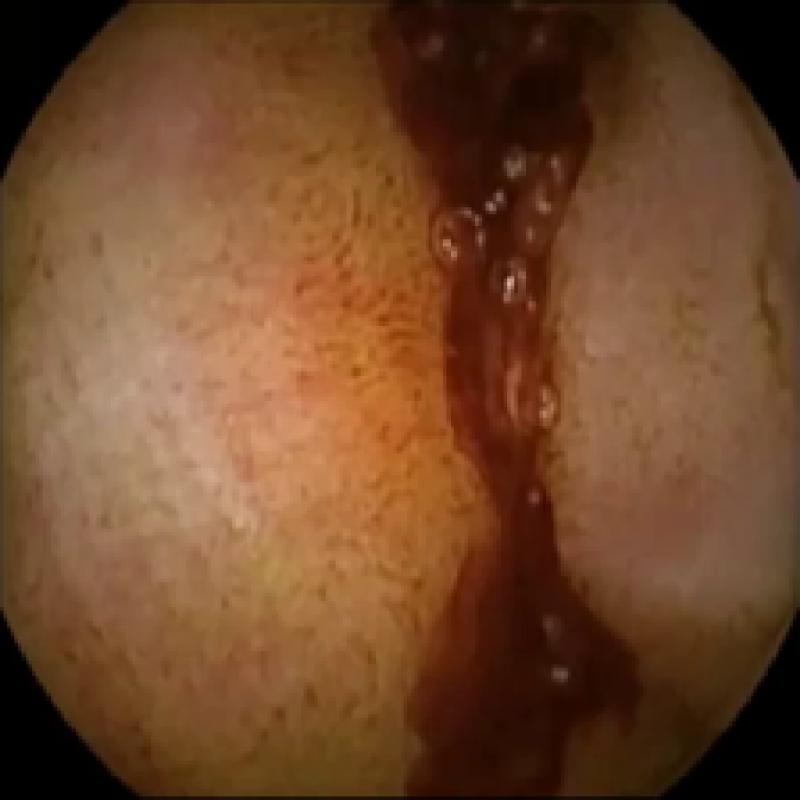bleeding: (382, 0, 633, 800)
